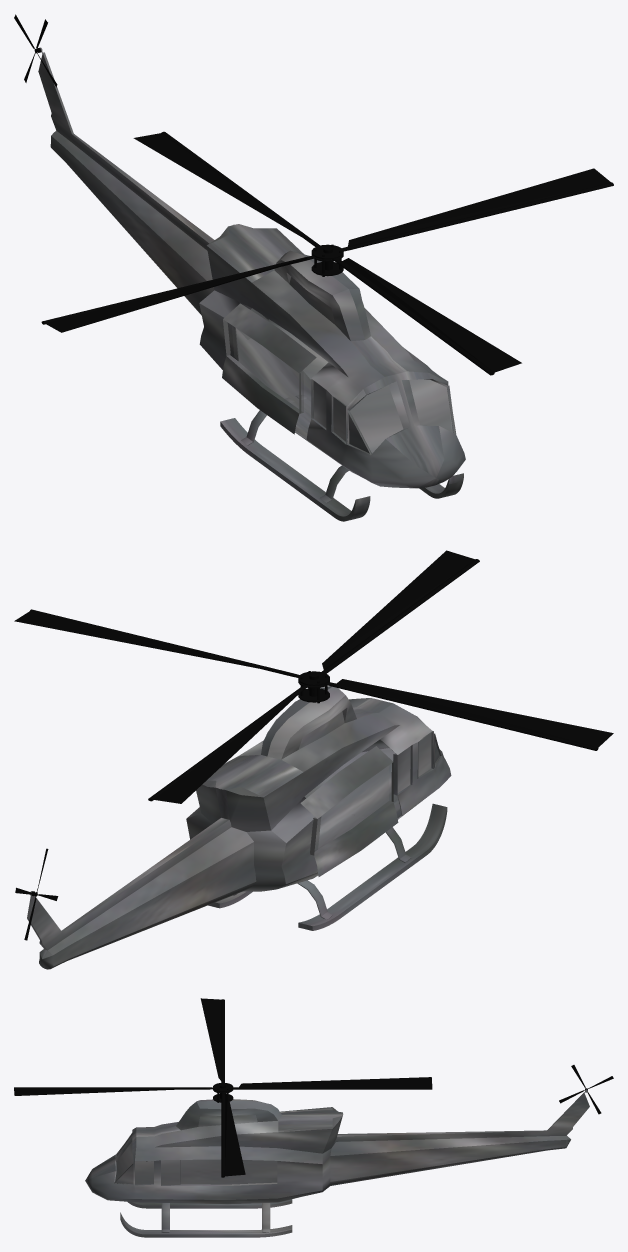
Rendered from helicopter.FBX.
3 views of the same model, one above another, from view 1: azimuth 30°, elevation 25°; view 2: azimuth 150°, elevation 25°; view 3: azimuth 270°, elevation 25° (orthographic). The views are drawn at different scales.
Visible parts, largest first — view 1: chopper, Rotor, chopper door, glasses, side window; view 2: chopper, Rotor, chopper door, side window, glasses; view 3: chopper, Rotor, glasses.
Boxes of the visible parts, x1=… form: chopper: x1=38, y1=47, x2=465, y2=521; Rotor: x1=41, y1=131, x2=613, y2=375; chopper door: x1=222, y1=303, x2=316, y2=434; glasses: x1=313, y1=379, x2=451, y2=451; side window: x1=232, y1=327, x2=303, y2=411; chopper: x1=27, y1=686, x2=451, y2=969; Rotor: x1=14, y1=550, x2=613, y2=803; chopper door: x1=300, y1=746, x2=398, y2=876; side window: x1=315, y1=766, x2=388, y2=849; glasses: x1=398, y1=733, x2=431, y2=792; chopper: x1=85, y1=1089, x2=589, y2=1237; Rotor: x1=14, y1=998, x2=432, y2=1177; glasses: x1=115, y1=1133, x2=276, y2=1185.
Size of the model in its own units: 210 by 85.2 by 301.
Materials: 3 (1 with a texture image).
